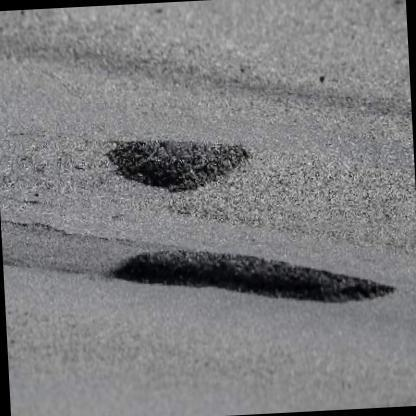pothole: (99, 242, 399, 306), (108, 131, 240, 199)
